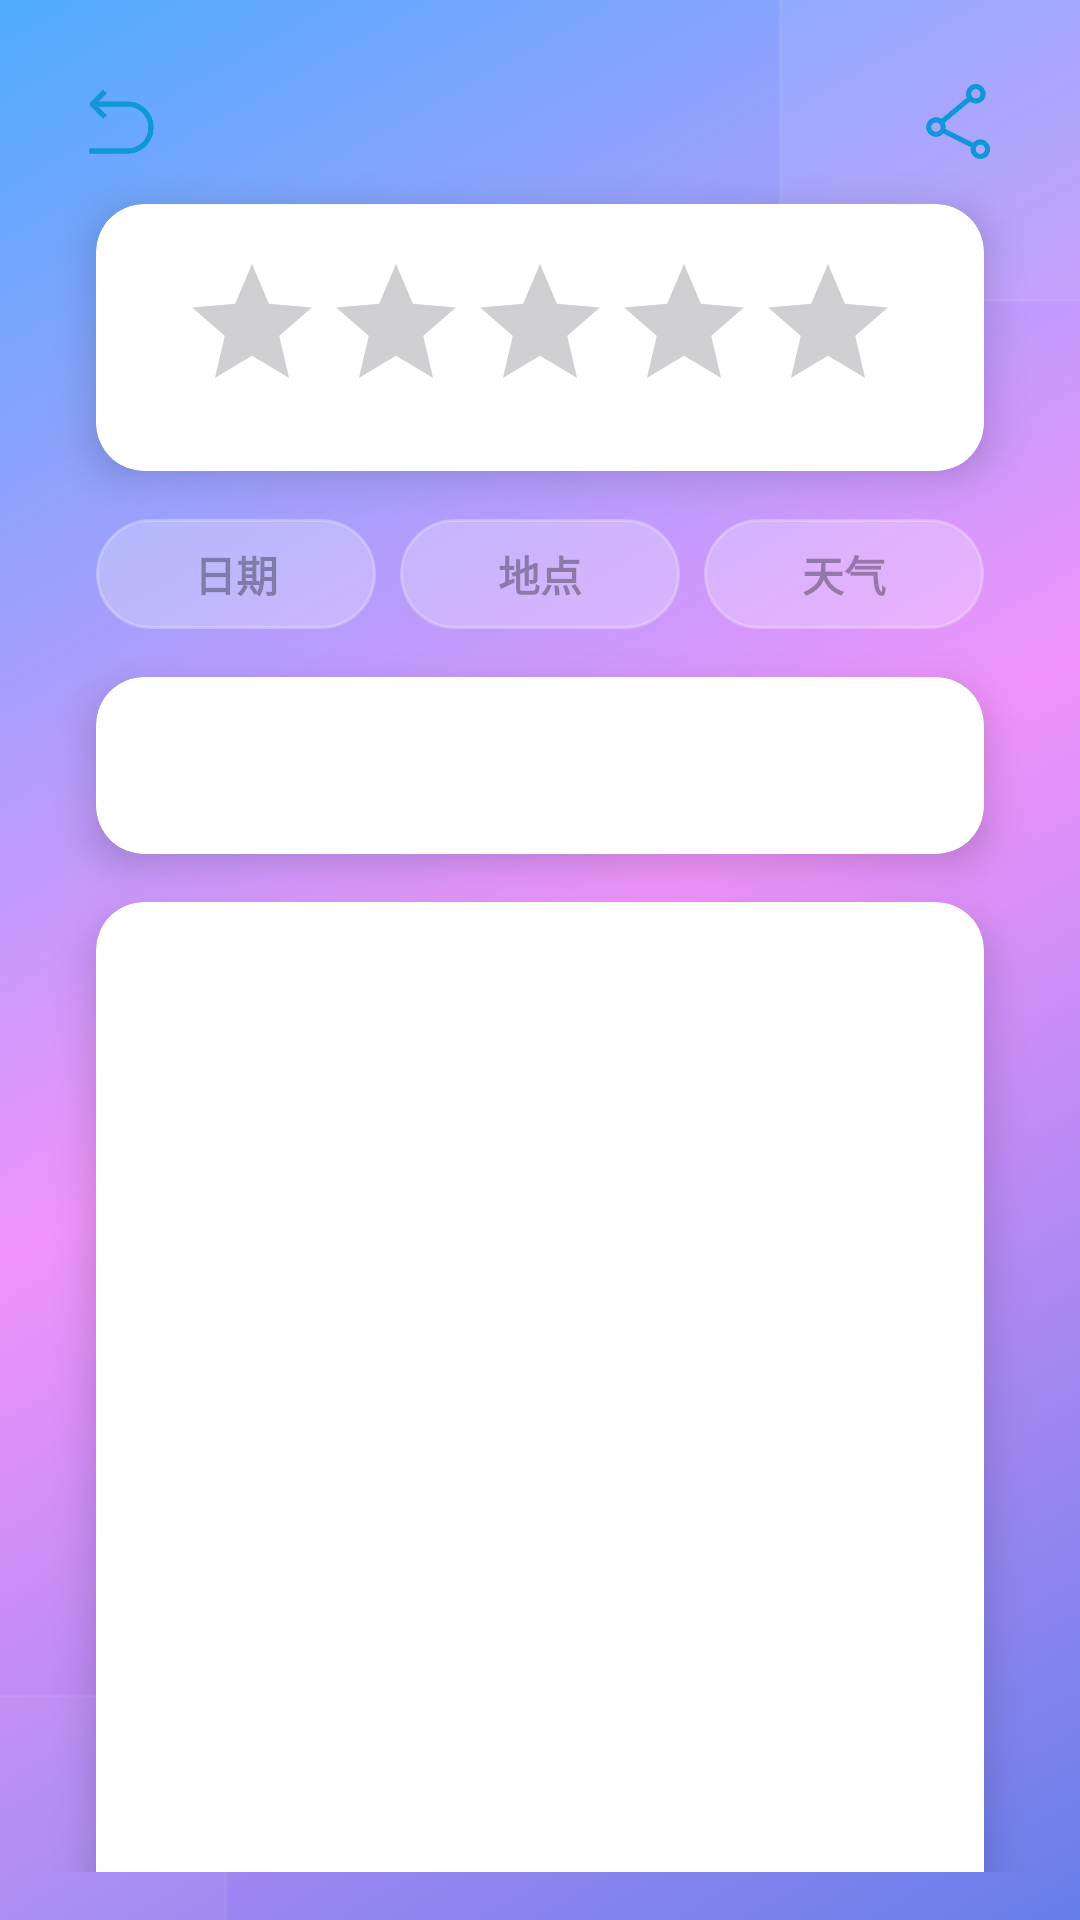

Icon click points for this 1080 × 1920 phone screenshot, format [x,y]:
分享: [958,121]
返回: [121,122]
